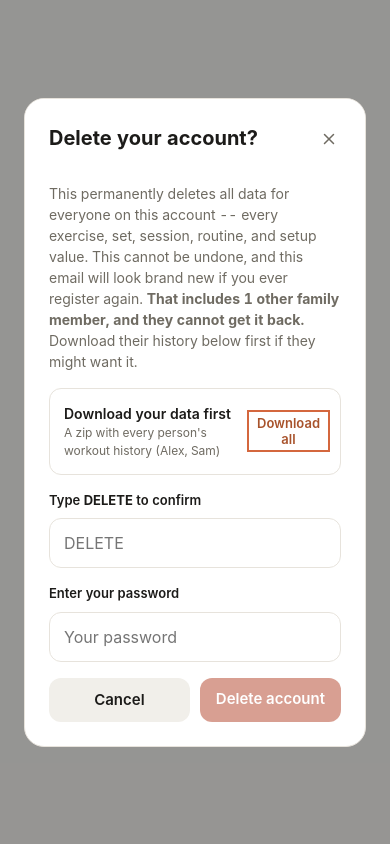
Test case: DeleteAccountModal › keeps the delete button disabled until DELETE is typed exactly and a password is given
Expected: the button "Delete account" is disabled, [200,678,341,722]
Type "delete" into the field with placeholder "DELETE" at coordinates (195, 543), box [49,518,341,568]
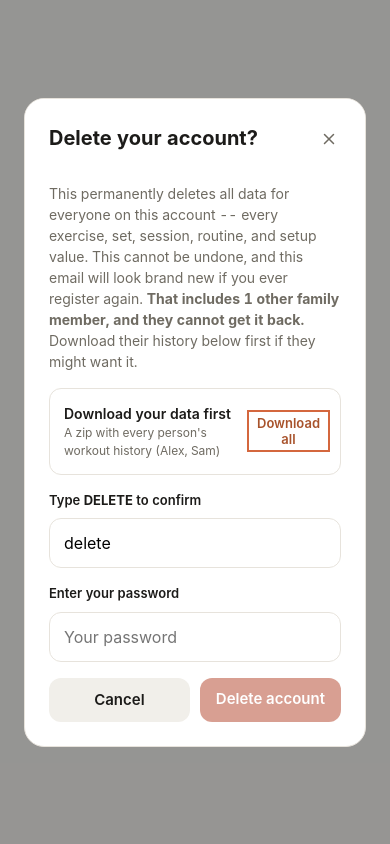
Expected: the button "Delete account" is disabled, [200,678,341,722]
Replace the text in the field with placeholder "DELETE" with "DELETE" at coordinates (195, 543), box [49,518,341,568]
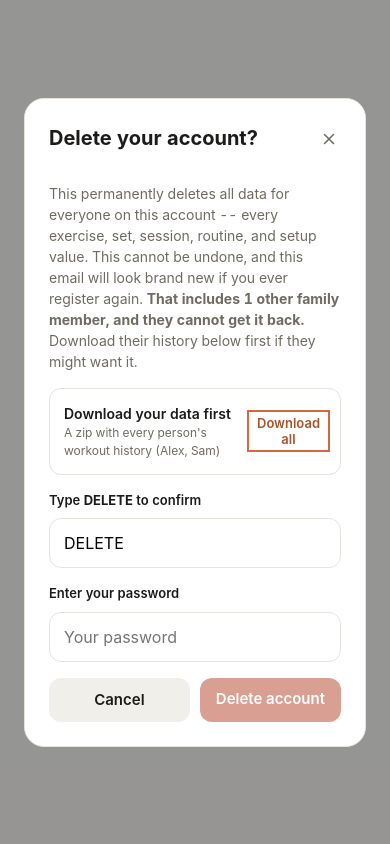
Expected: the button "Delete account" is disabled, [200,678,341,722]
Type "password123" into the password field with placeholder "Your password" at coordinates (195, 636), box [49,612,341,662]
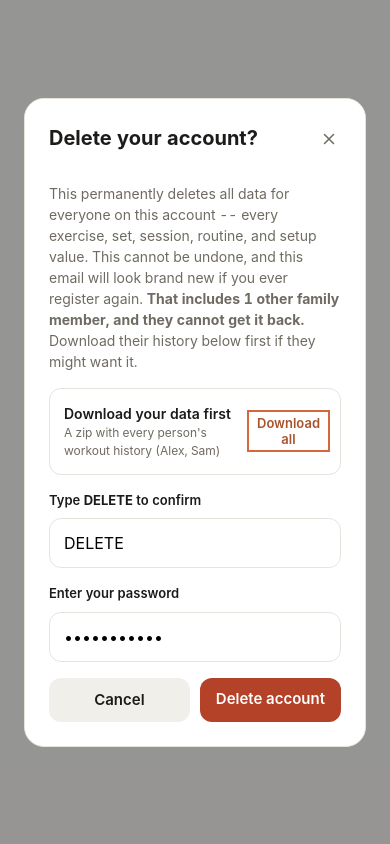
Result: the button "Delete account" is enabled at [200,678,341,722]
